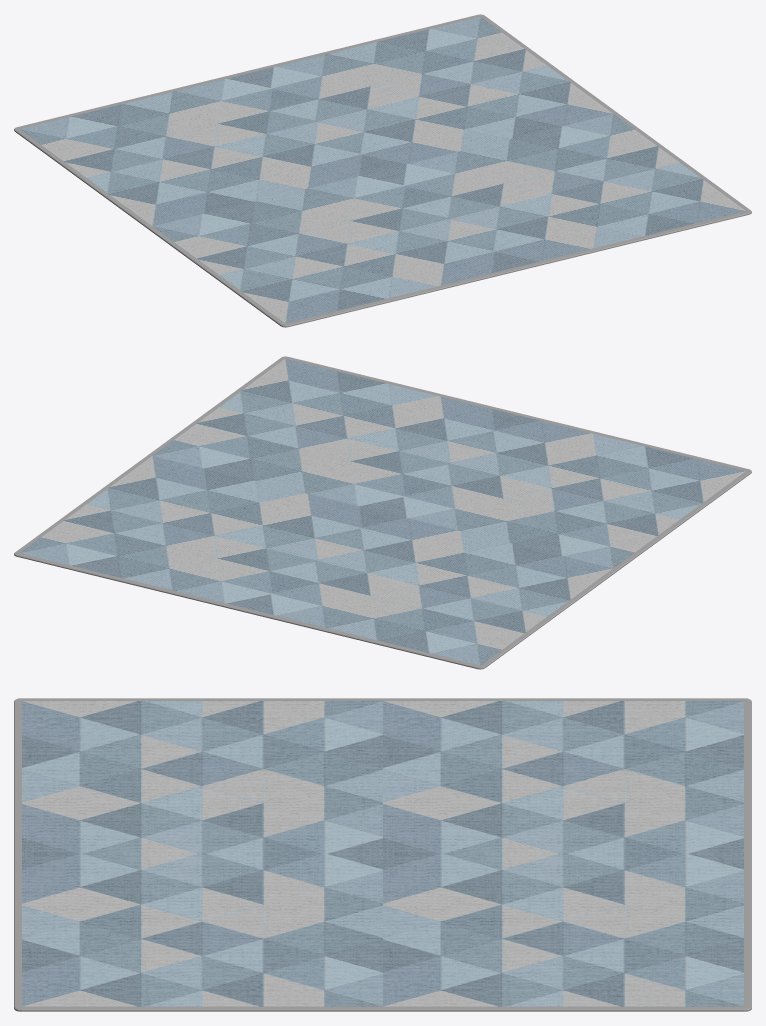
Rendered from carpet_00301.FBX.
The picture shows the model from 3 angles, top to bottom: view 1: azimuth 30°, elevation 25°; view 2: azimuth 150°, elevation 25°; view 3: azimuth 270°, elevation 25°; orthographic projection. The views are drawn at different scales.
Parts seen in each view (by area): view 1: carpet_00301; view 2: carpet_00301; view 3: carpet_00301.
Boxes of the visible parts, bbox=[...] form: carpet_00301: bbox=[14, 14, 751, 327]; carpet_00301: bbox=[14, 356, 751, 669]; carpet_00301: bbox=[14, 698, 751, 1011].
Bounding box in the file's own units: 614 × 1.85 × 614.
